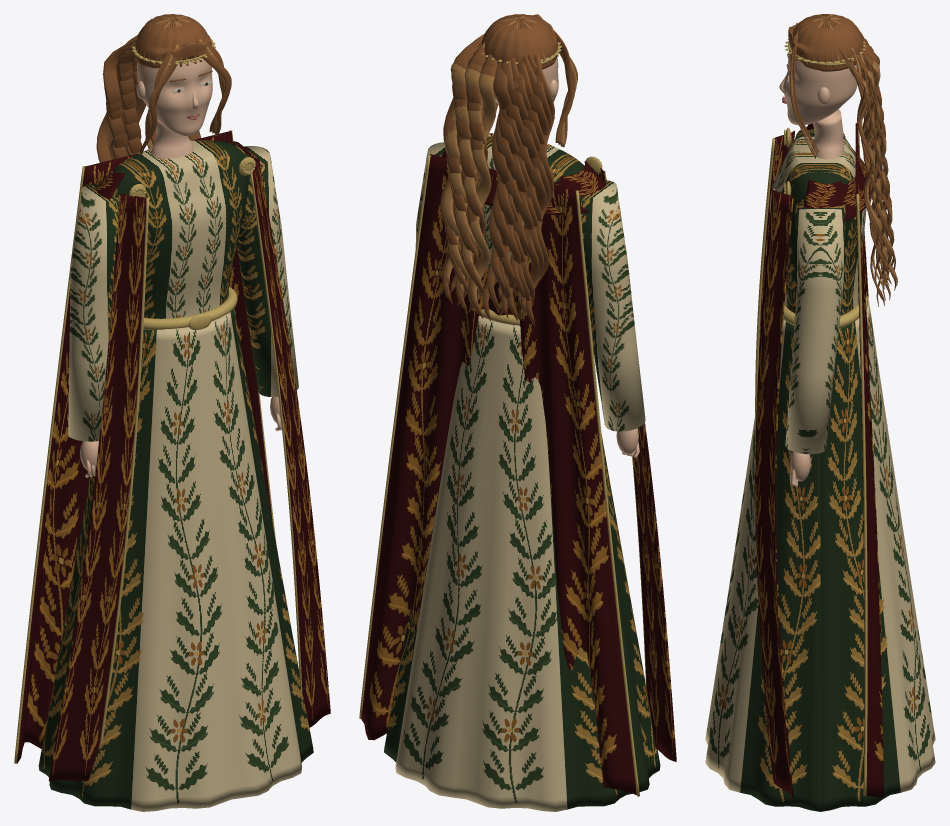
The model's file is princess-v10-standing.glb.
3 views of the same model, side by side, from view 1: azimuth 30°, elevation 25°; view 2: azimuth 150°, elevation 25°; view 3: azimuth 270°, elevation 25° (orthographic).
Visible parts, largest first — view 1: MorrisPrincess_surface, cape_surface, body_surface, head_surface, armL_surface, armR_surface; view 2: MorrisPrincess_surface, cape_surface, head_surface, armL_surface, body_surface; view 3: MorrisPrincess_surface, cape_surface, head_surface, armR_surface, body_surface.
Part boxes in pixels (x1,y1,x2,y2): MorrisPrincess_surface: (38,308,313,811); cape_surface: (14,130,330,781); body_surface: (112,120,255,329); head_surface: (96,14,231,162); armL_surface: (68,183,119,477); armR_surface: (237,146,298,431); MorrisPrincess_surface: (384,316,660,811); cape_surface: (359,133,676,796); head_surface: (440,14,577,326); armL_surface: (579,180,645,457); body_surface: (480,133,602,325); MorrisPrincess_surface: (705,297,935,811); cape_surface: (755,122,883,797); head_surface: (779,14,897,306); armR_surface: (785,203,845,487); body_surface: (770,109,867,328).
Size of the model in its own units: 0.6502 by 1.66 by 0.4649.
10 materials, 2 textured.
